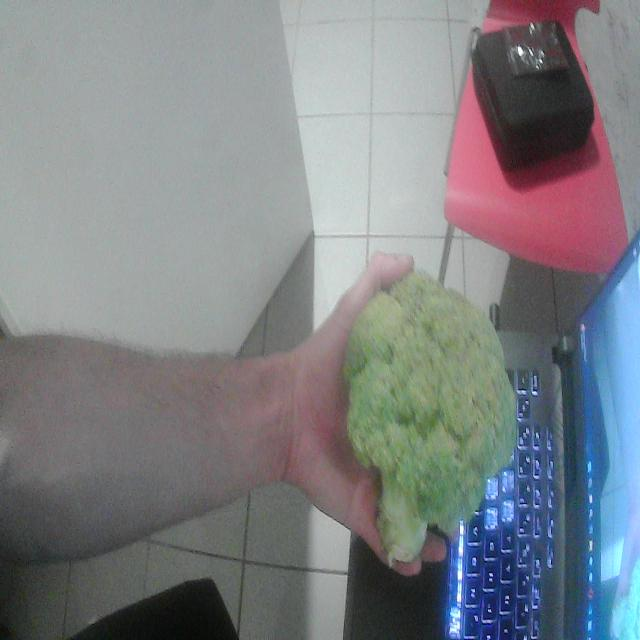Broccoli: (342, 272, 516, 565)
